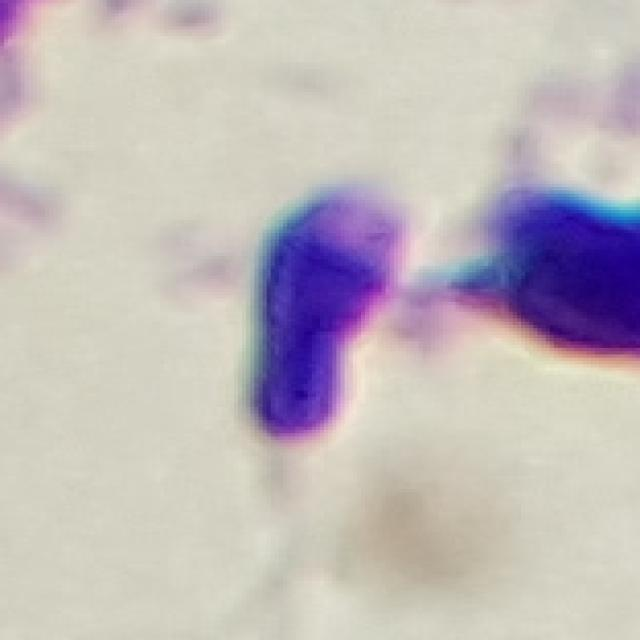abnormal sperm: (236, 178, 409, 616)
